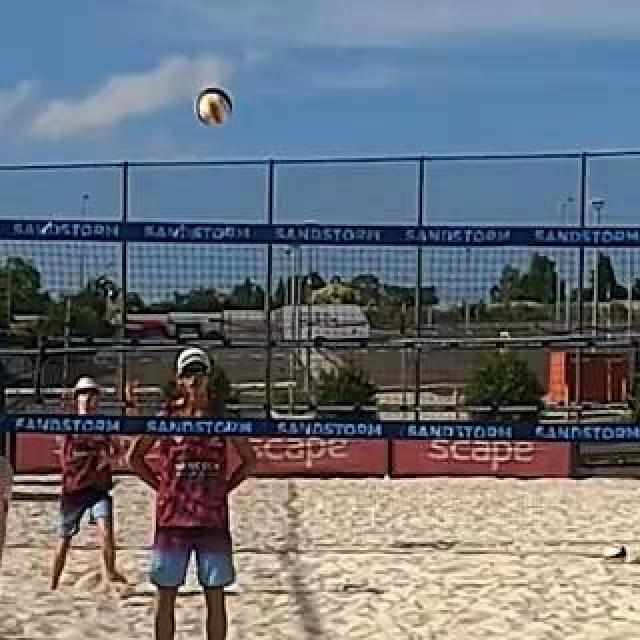volleyball: (194, 87, 232, 125), (605, 543, 627, 565)
